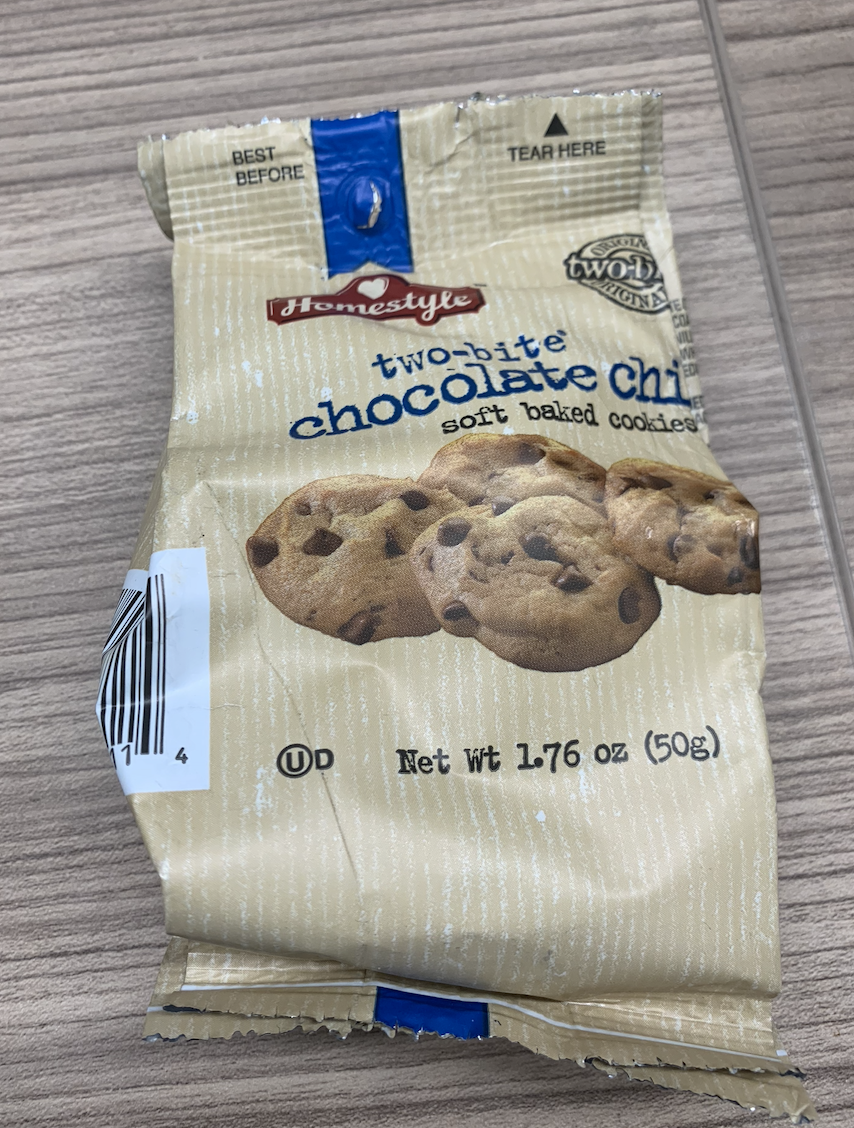cookies_1g-99g: (218, 162, 750, 984)
